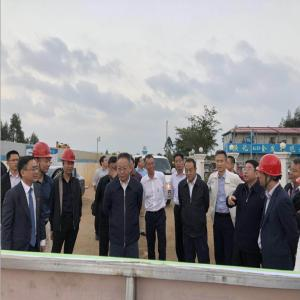none: (17, 157, 40, 185), (116, 153, 132, 182), (243, 161, 259, 185), (184, 160, 199, 182), (215, 149, 228, 174), (290, 158, 300, 186), (7, 151, 21, 170), (145, 155, 157, 175), (108, 155, 118, 176), (175, 154, 186, 172), (226, 155, 236, 172), (100, 156, 109, 170), (137, 157, 145, 168)
red: (259, 153, 284, 190), (34, 143, 52, 174), (62, 148, 77, 177)
yellow: (173, 162, 176, 166)
